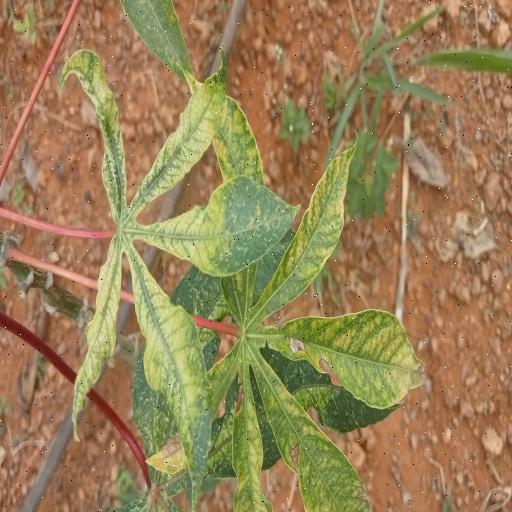Cassava_Mosaic: (140, 59, 430, 512), (56, 42, 304, 512)
